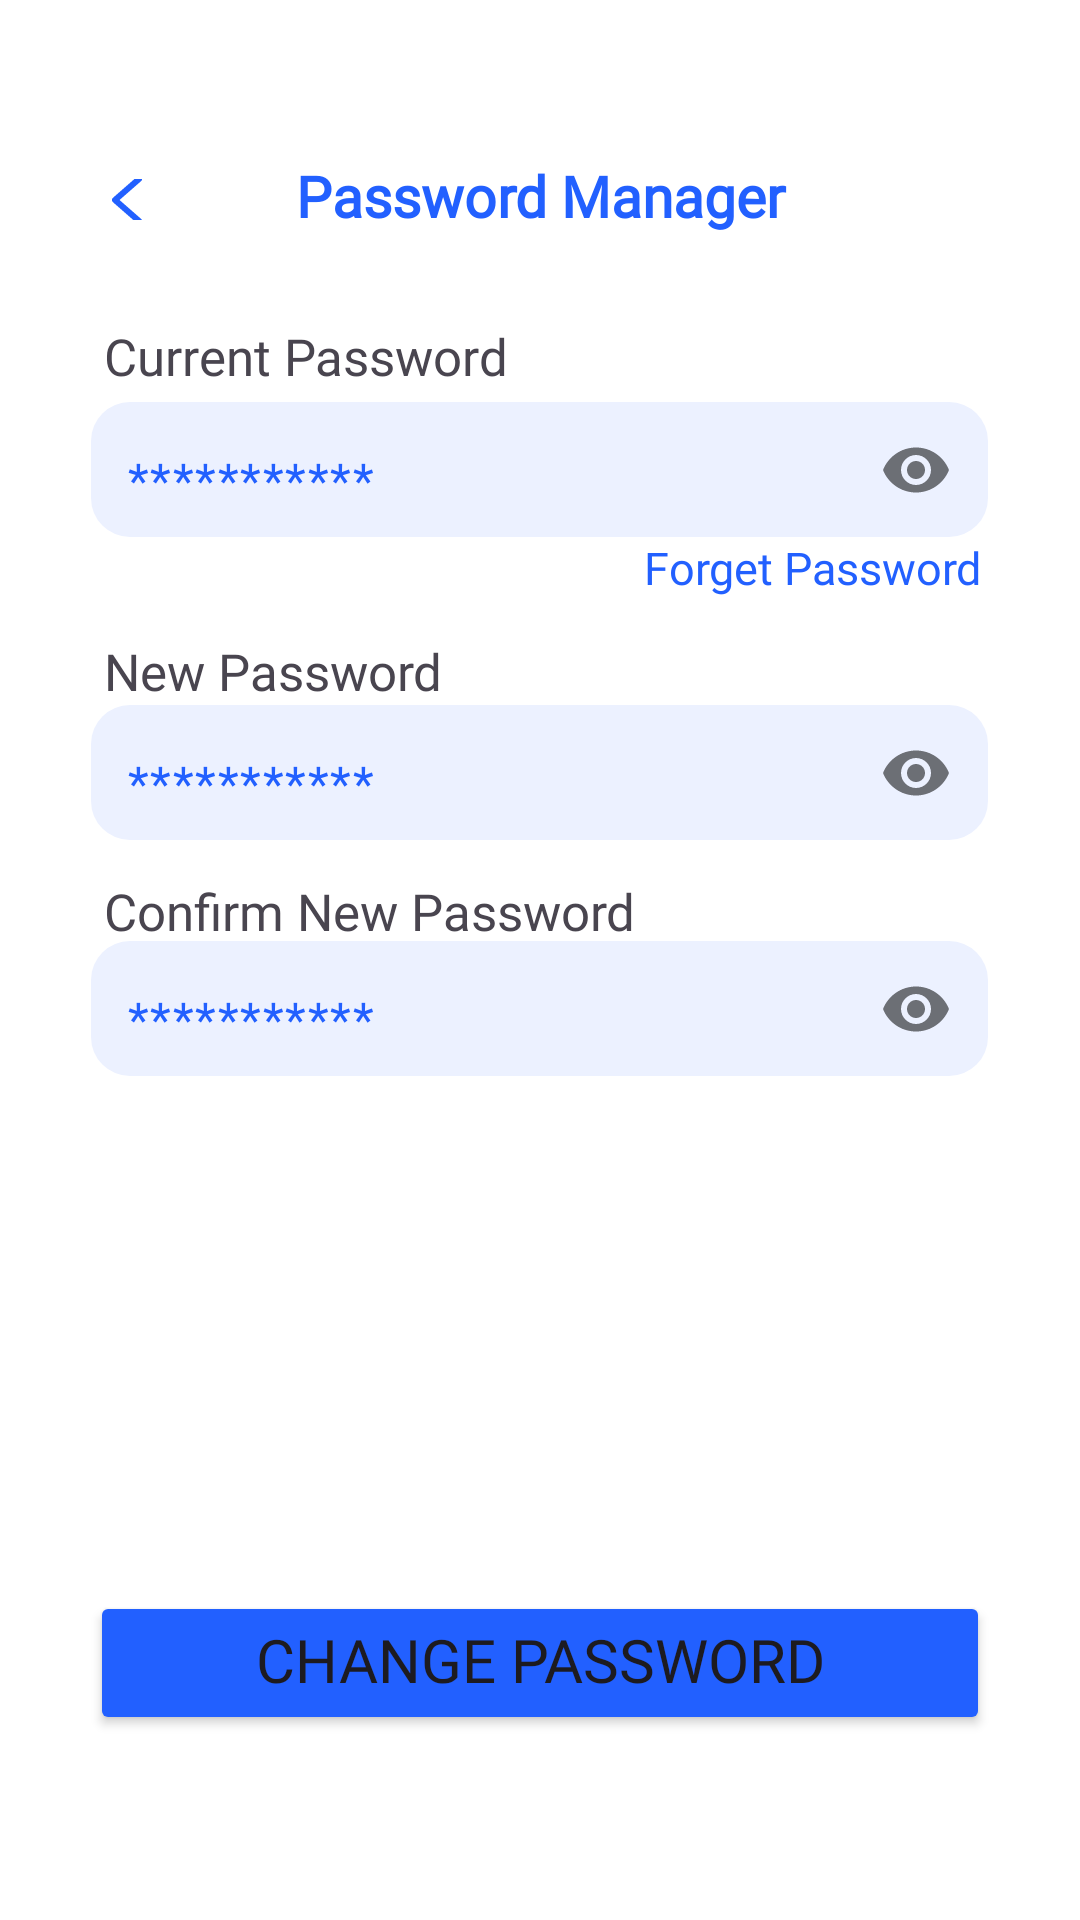

Named icons in this screenshot (1080 × 1920) and their centers, [x,y]:
back: [127,199]
